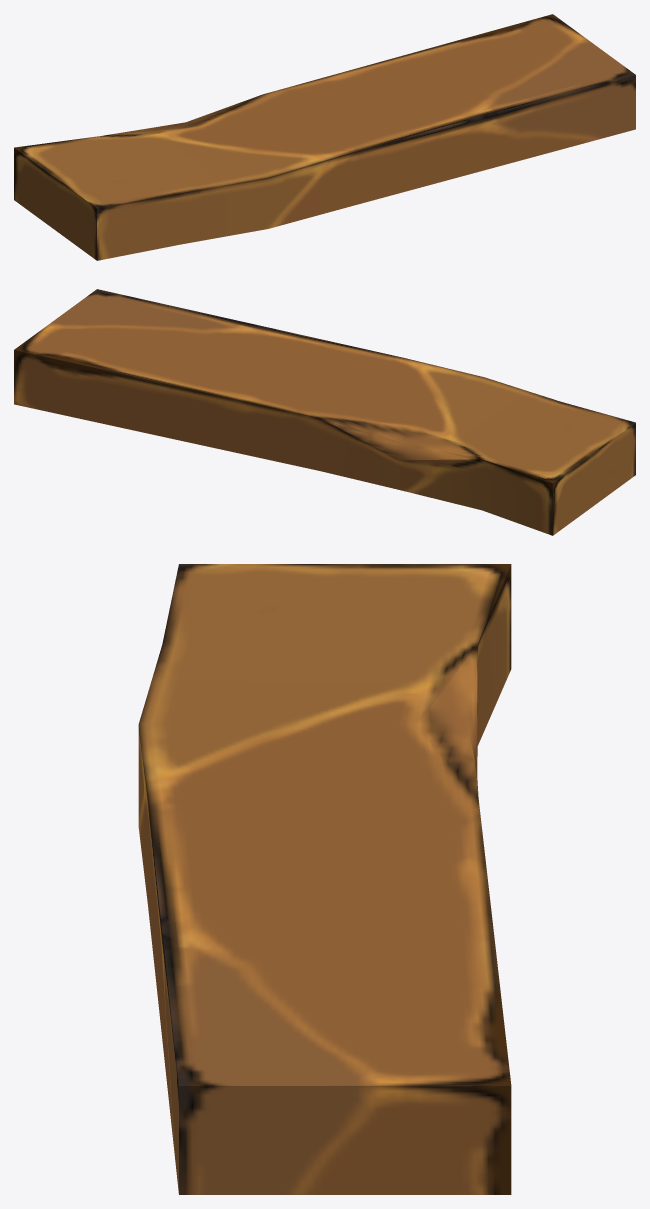
Rendered from Moonset_FBX_dalle_05.fbx.
3 views of the same model, one above another, from view 1: azimuth 30°, elevation 25°; view 2: azimuth 150°, elevation 25°; view 3: azimuth 270°, elevation 25° (orthographic). The views are drawn at different scales.
Parts seen in each view (by area): view 1: Dalle_05; view 2: Dalle_05; view 3: Dalle_05.
Boxes of the visible parts, x1,y1,x2,y2 form: Dalle_05: (14,14,635,260); Dalle_05: (14,289,635,535); Dalle_05: (138,564,511,1194).
Size of the model in its own units: 5.37 by 0.5191 by 1.61.
